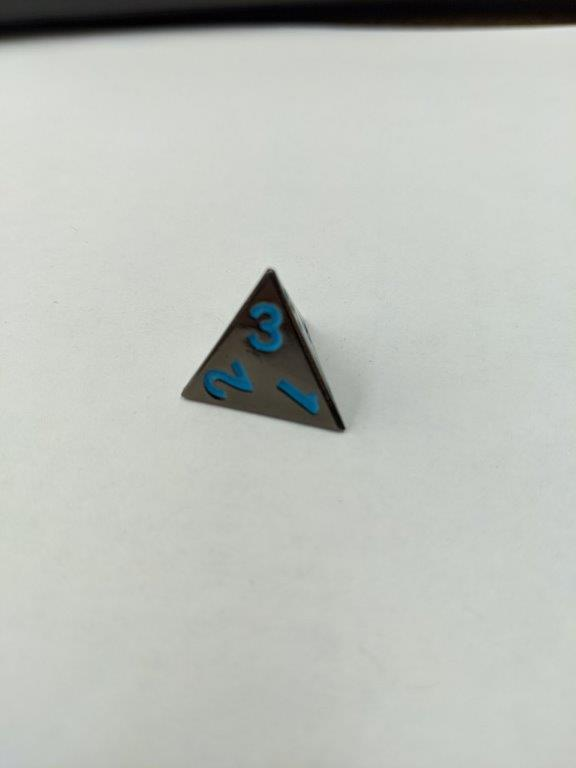d4-3: (179, 265, 346, 439)
